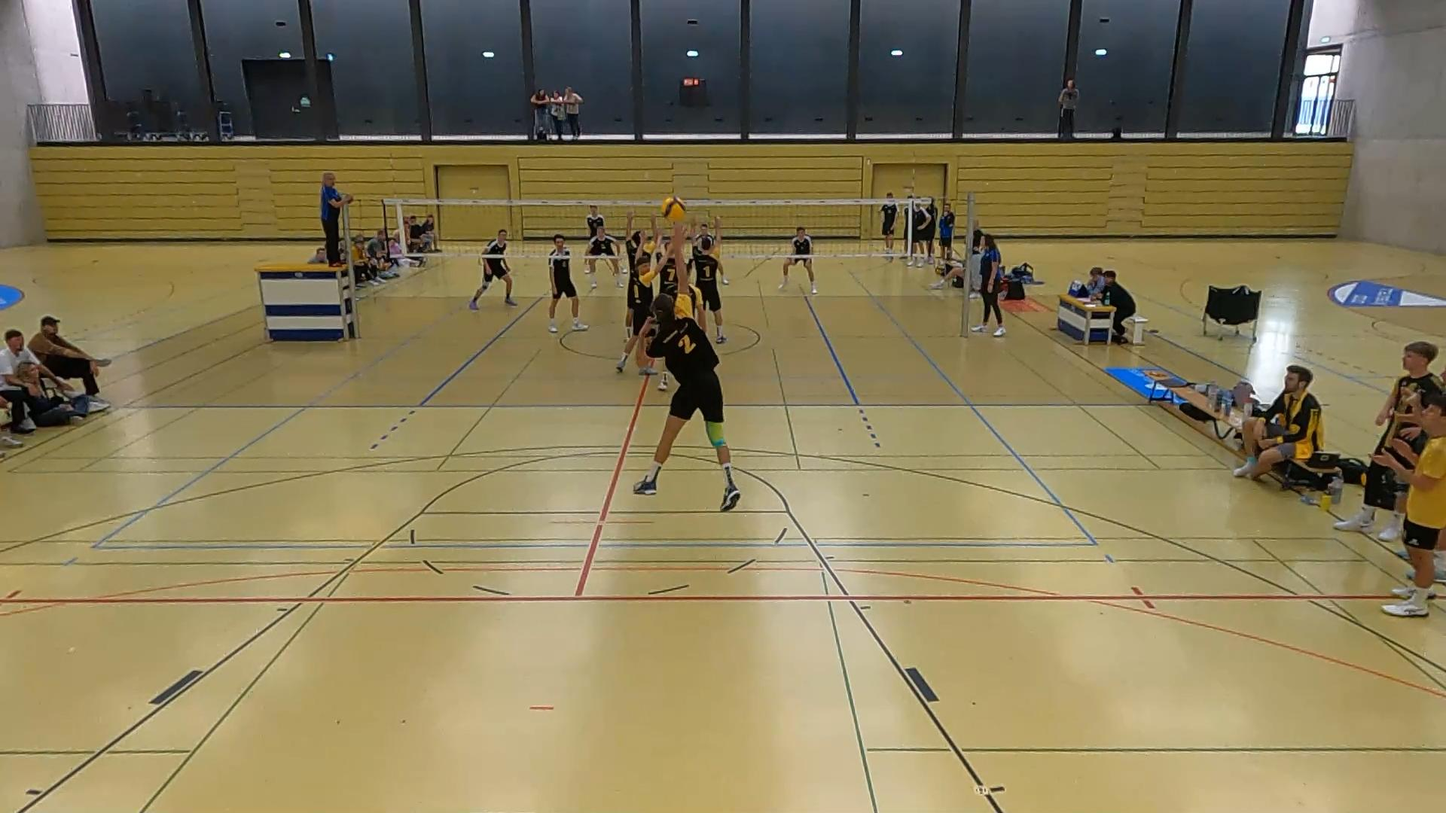Player: (616, 212, 657, 375), (690, 235, 726, 343), (548, 234, 587, 332), (639, 218, 688, 296), (469, 230, 517, 309), (779, 226, 816, 294), (693, 217, 728, 285), (587, 224, 623, 288), (586, 206, 604, 239)
Serve: (629, 225, 747, 517)
ball: (661, 196, 685, 225)
